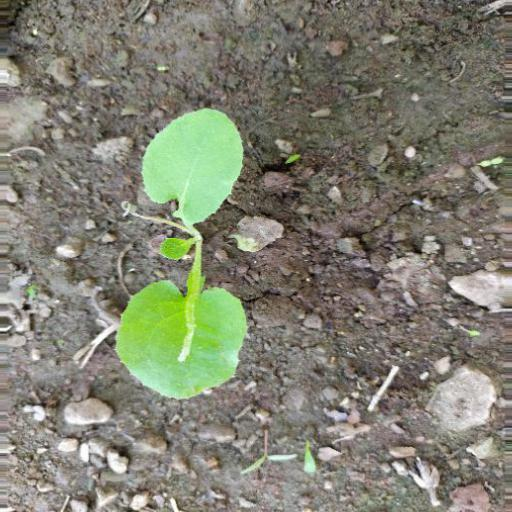weed: (116, 113, 249, 410)
